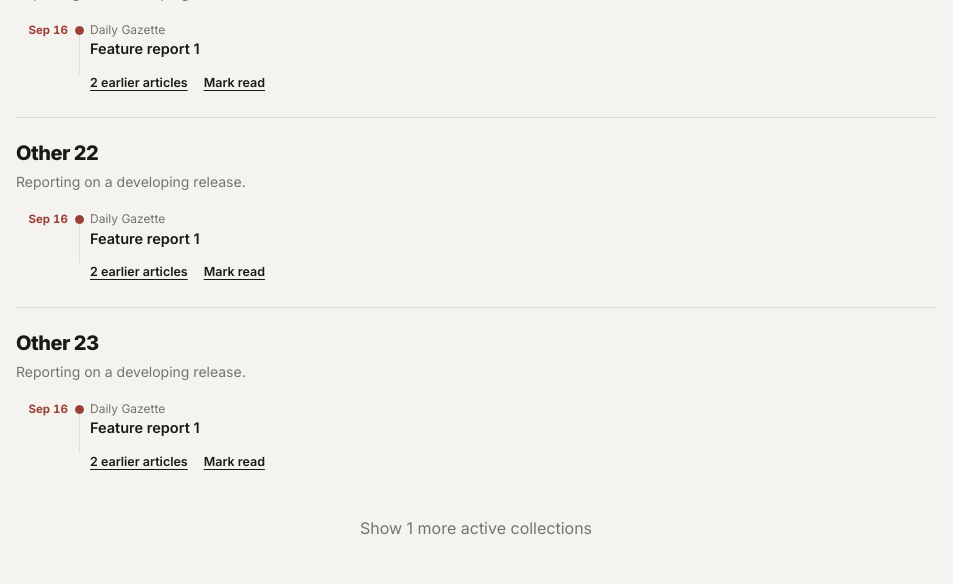
Test: Pulse visit and update interface › pins a quiet followed story above active stories and restores a waking story during an open visit
(page scrolled)
Click the button "Other 23". click: [57, 343]
box: x1=16 y1=332 x2=99 y2=355
(page scrolled)
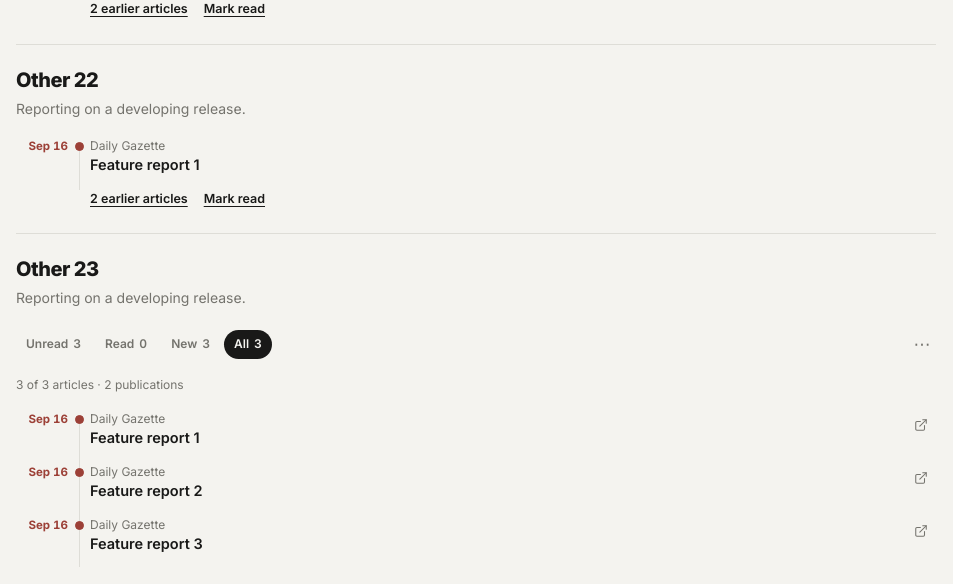
Check: the button "Other 23" is expanded, box x1=16 y1=258 x2=99 y2=281
